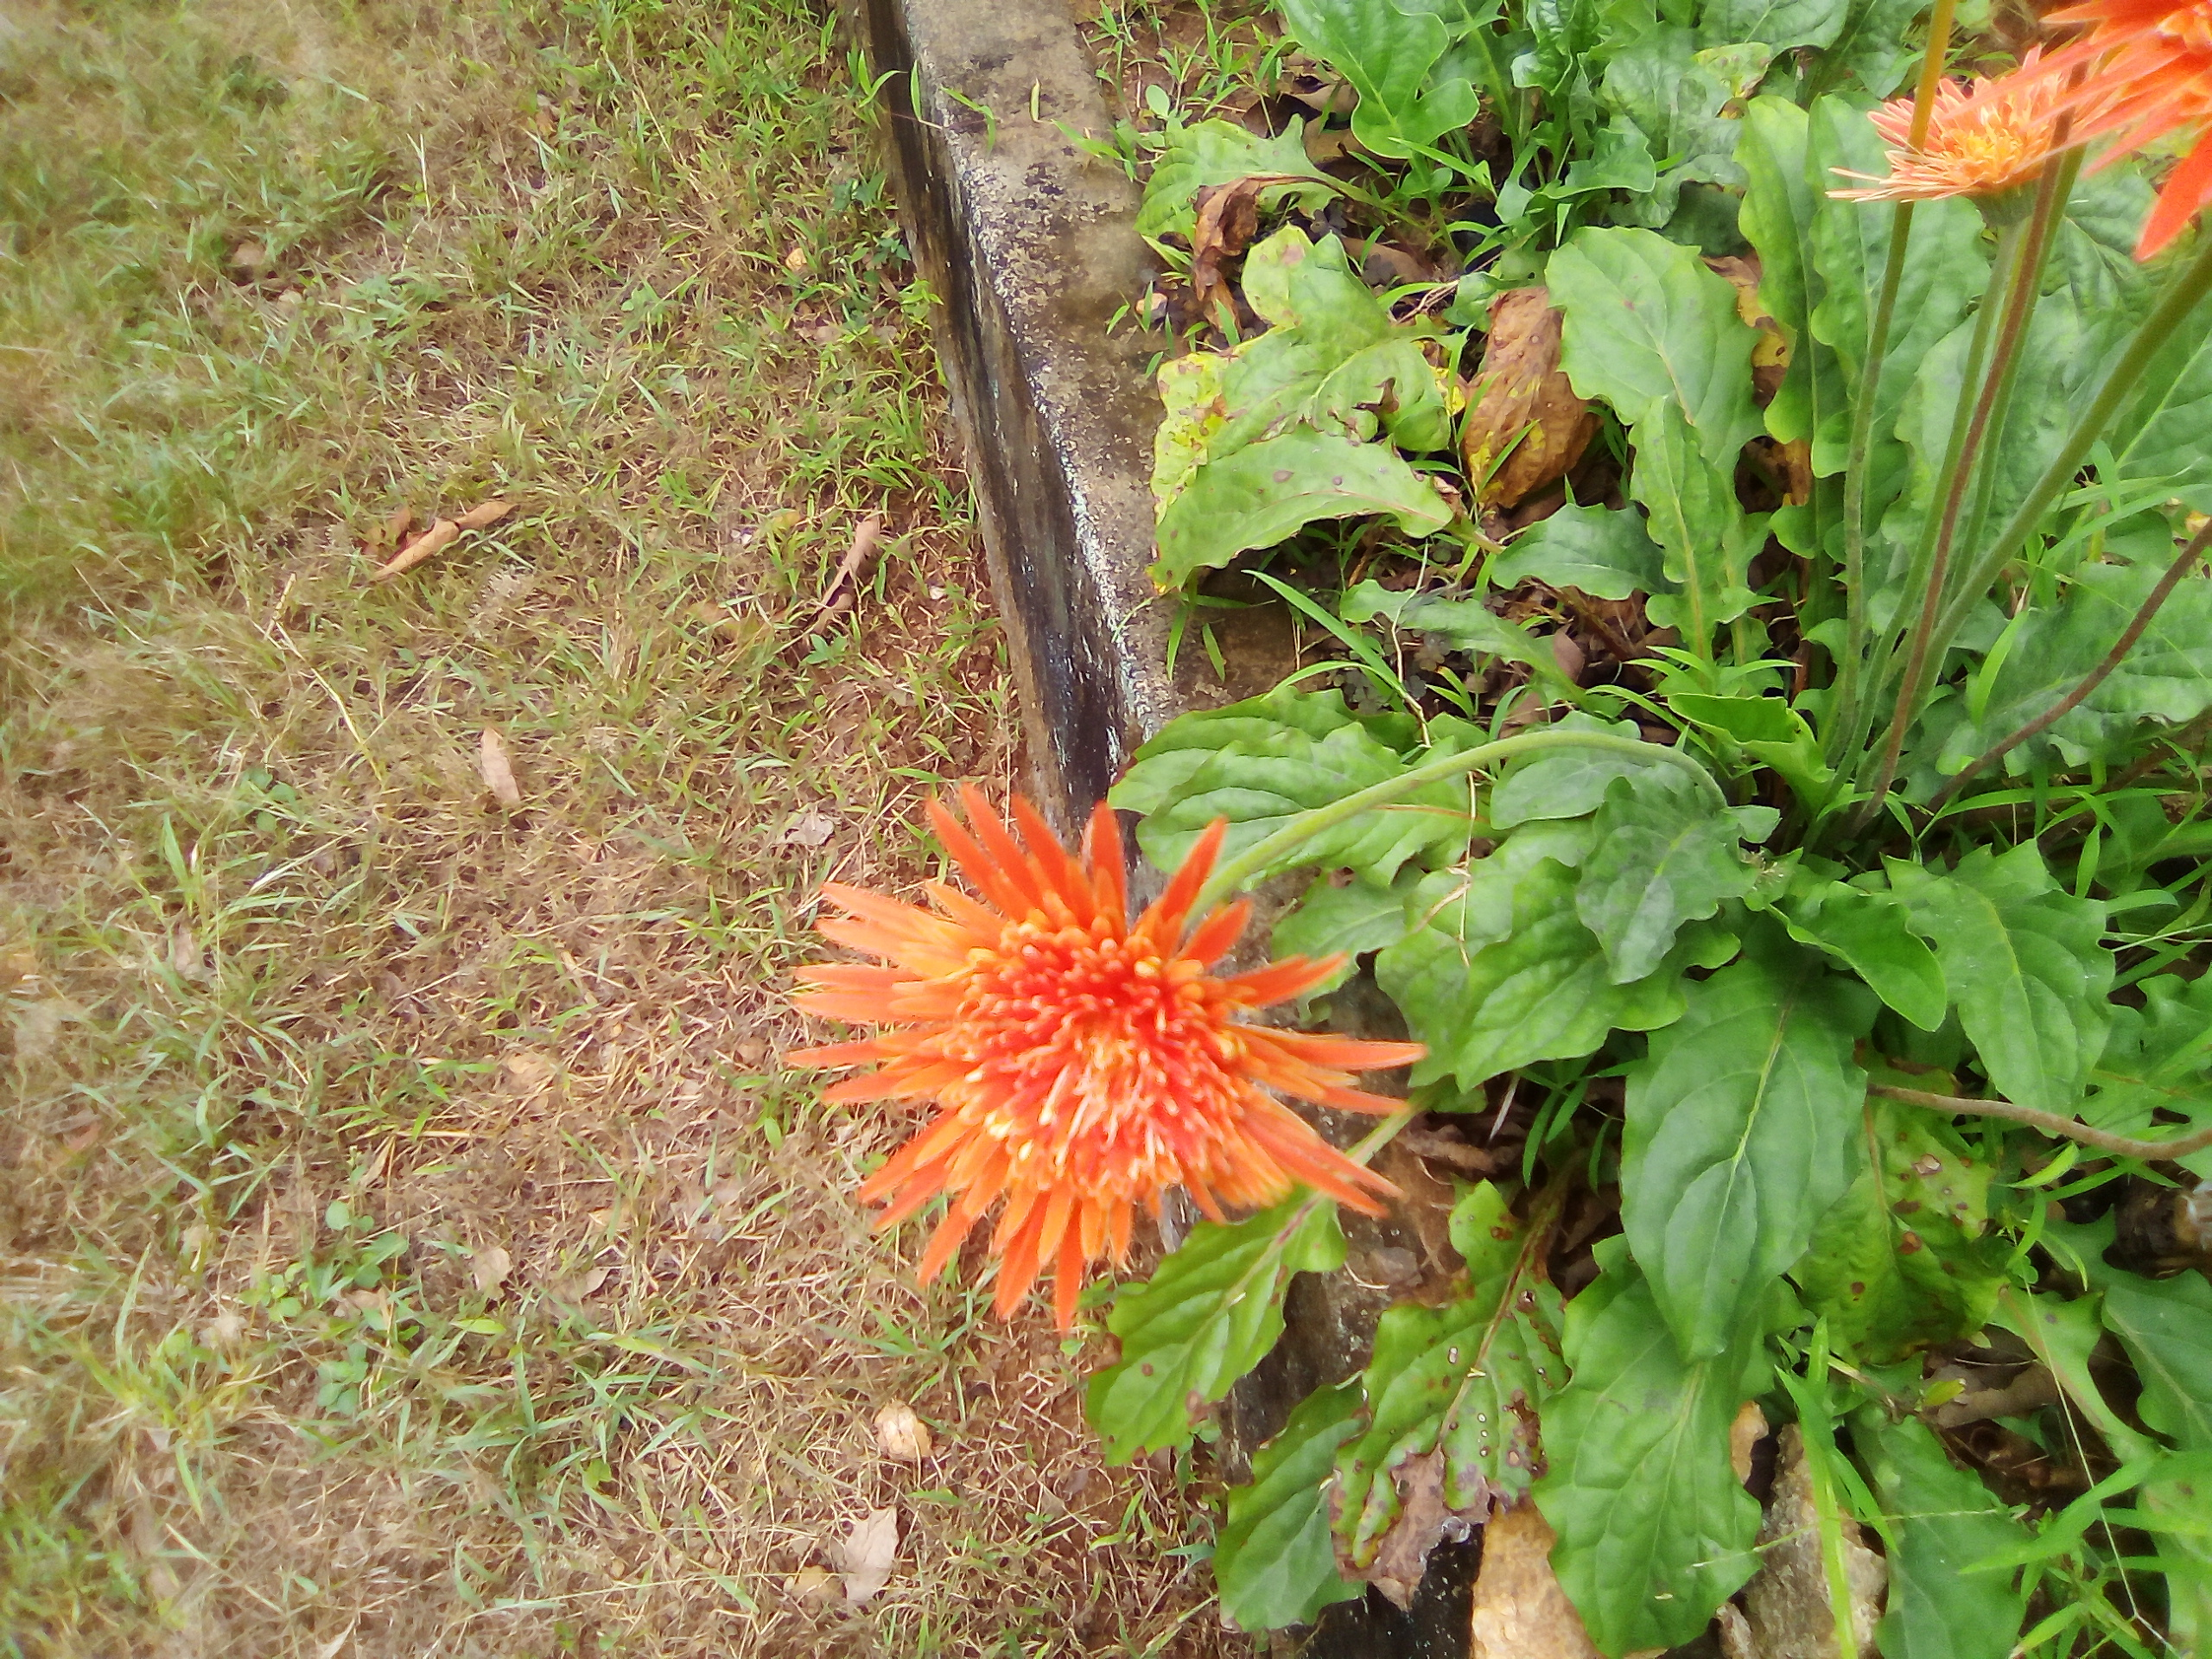ginimala: (789, 814, 1413, 1286)
